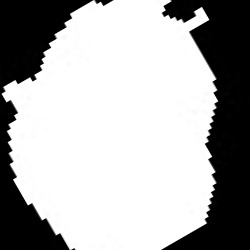spot: (5, 0, 218, 248)
